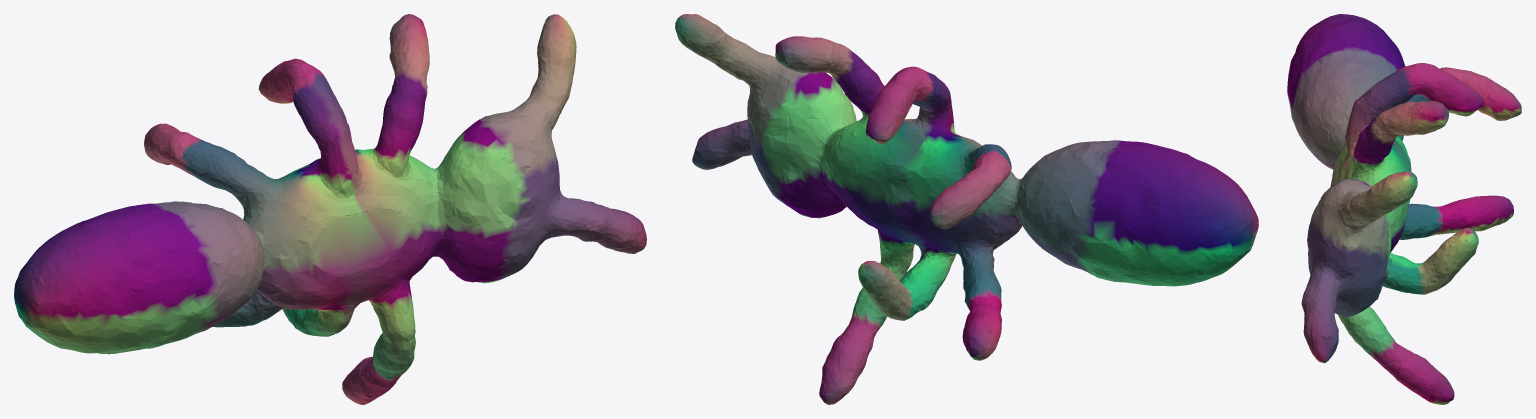
The model's file is ant-16.off.obj.
3 views of the same model, side by side, from view 1: azimuth 30°, elevation 25°; view 2: azimuth 150°, elevation 25°; view 3: azimuth 270°, elevation 25° (orthographic). The views are drawn at different scales.
Bounding box in the file's own units: 1.74 × 1.03 × 0.6789.
